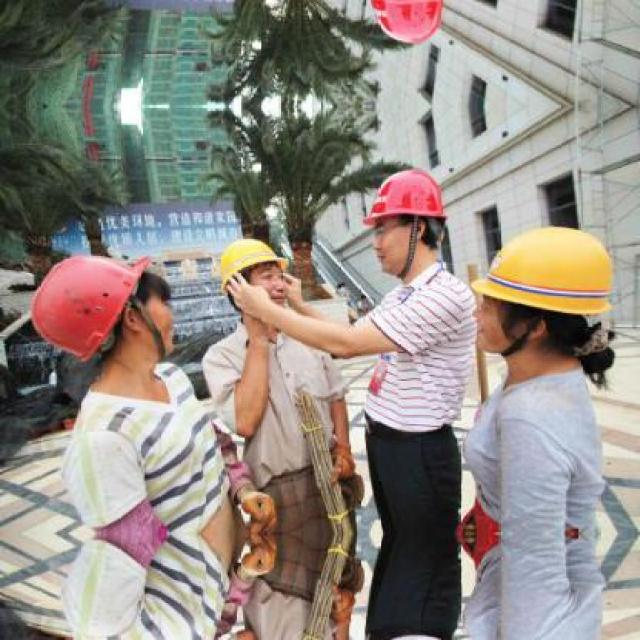helmet: (467, 210, 616, 387), (16, 239, 178, 379), (348, 155, 448, 281), (202, 229, 300, 312), (348, 0, 449, 59)
